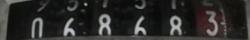digits: (130, 0, 151, 40), (205, 10, 218, 35), (30, 18, 44, 40), (98, 13, 111, 34), (169, 16, 182, 34), (63, 19, 76, 37)
